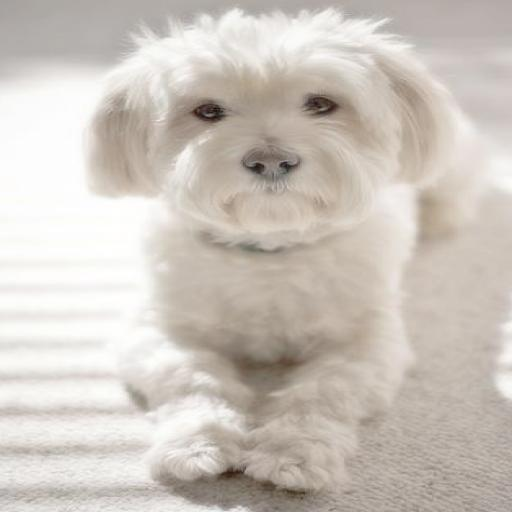dog_face: (78, 14, 472, 237)
